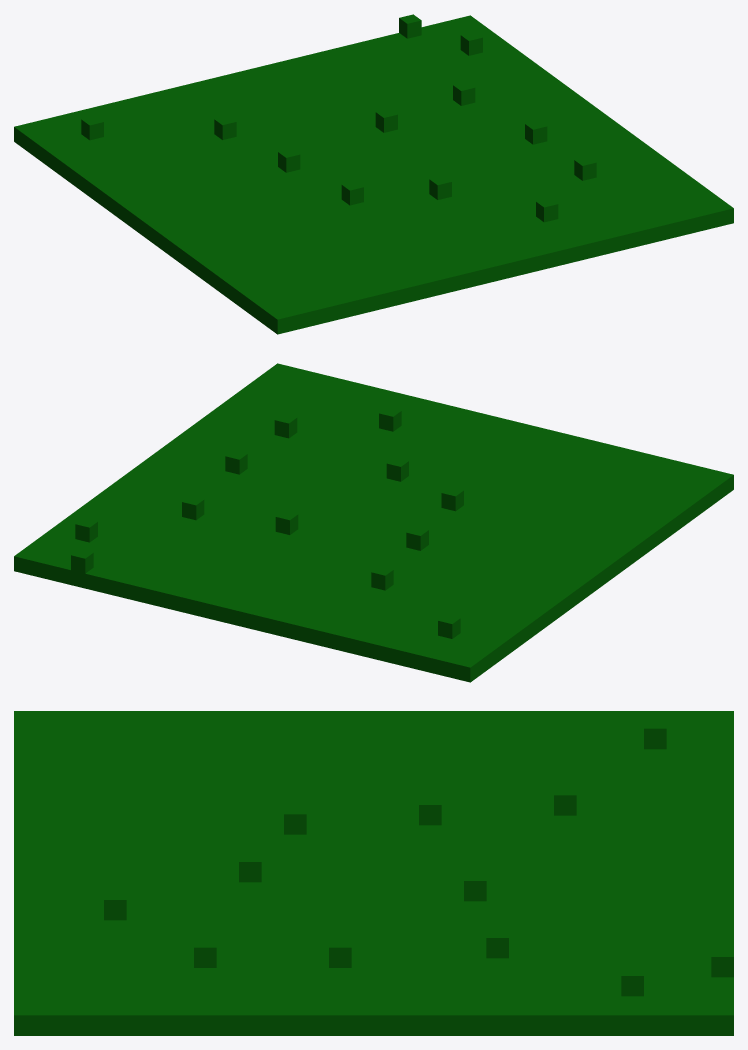
File: env_grass1b.fbx
3 views of the same model, one above another, from view 1: azimuth 30°, elevation 25°; view 2: azimuth 150°, elevation 25°; view 3: azimuth 270°, elevation 25° (orthographic). The views are drawn at different scales.
Parts seen in each view (by area): view 1: env_grass1b; view 2: env_grass1b; view 3: env_grass1b.
Boxes of the visible parts, x1=… form: env_grass1b: x1=14, y1=14, x2=733, y2=334; env_grass1b: x1=14, y1=363, x2=733, y2=682; env_grass1b: x1=14, y1=711, x2=733, y2=1035.
Bounding box in the file's own units: 3.2 × 3.2 × 0.2.
1 material, 1 textured.
